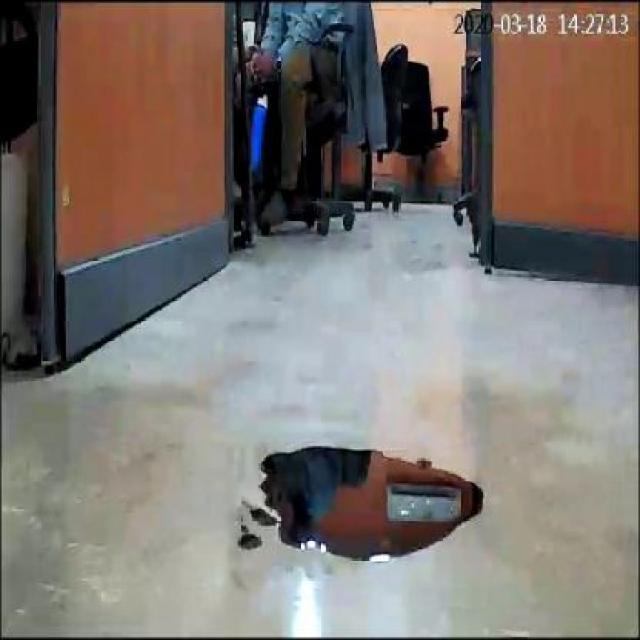spill: (260, 446, 480, 562)
